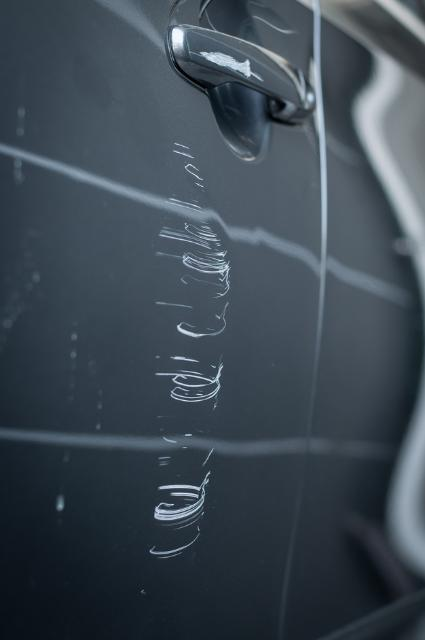Door: (113, 96, 265, 614)
